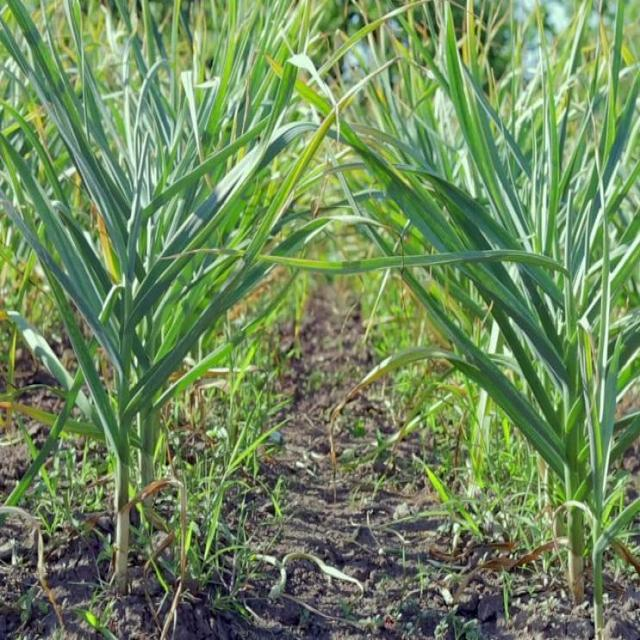row: (164, 281, 558, 639)
